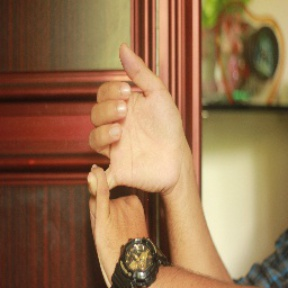S: (82, 41, 186, 275)
